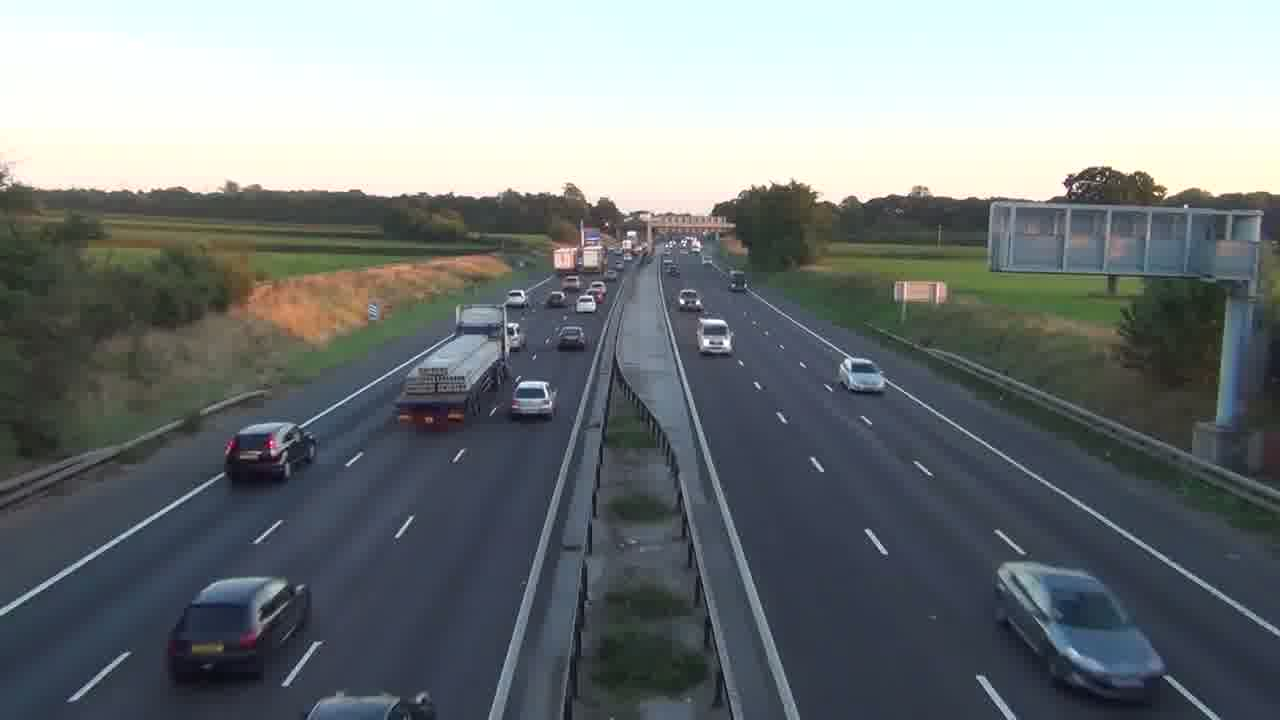car: (166, 575, 312, 682), (224, 420, 318, 482), (303, 690, 437, 720), (510, 379, 559, 420), (837, 355, 885, 395), (696, 316, 733, 356), (556, 324, 586, 350), (676, 288, 704, 313), (576, 291, 596, 312)
truck: (992, 559, 1167, 705), (396, 332, 506, 431)
